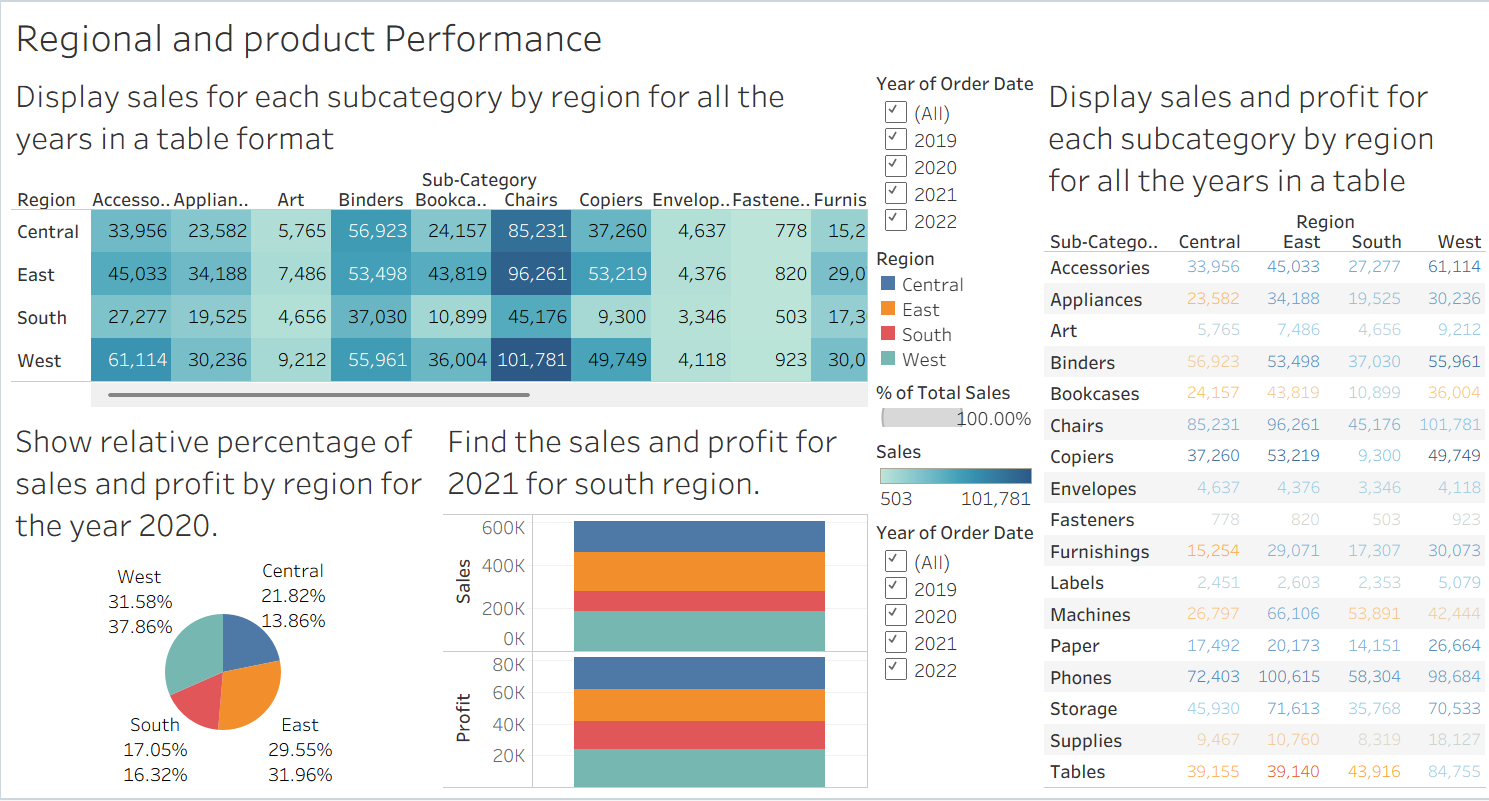

What the dashboard file says about the page in this screenshot:
{"tool":"tableau","page":{"name":"Regional and product Performance ","canvas":[1000,800],"ordinal":0},"visuals":[{"type":"worksheet","title":"Display sales for each subcategory by region for all the years in a table format","mark":"Automatic","rows":["Region"],"cols":["Sub-Category"],"box":[8,8,455,423]},{"type":"filter","title":"Show relative percentage of sales and profit by region for the year 2020.","param":"[federated.15bfd971dbl1vt1822pdc125c6v2].[yr:Order Date:ok]","box":[463,8,161,175]},{"type":"worksheet","title":"Display sales and profit for each subcategory by region for all the years in a table format","mark":"Automatic","rows":["Sub-Category"],"cols":["Region"],"box":[624,8,368,784]},{"type":"legend","title":"Show relative percentage of sales and profit by region for the year 2020.","param":"[federated.15bfd971dbl1vt1822pdc125c6v2].[none:Region:nk]","box":[463,183,161,134]},{"type":"legend","title":"Show relative percentage of sales and profit by region for the year 2020.","param":"[federated.15bfd971dbl1vt1822pdc125c6v2].[pcto:sum:Sales:qk]","box":[463,317,161,59]},{"type":"legend","title":"Display sales for each subcategory by region for all the years in a table format","param":"[federated.15bfd971dbl1vt1822pdc125c6v2].[sum:Sales:qk]","box":[463,376,161,81]},{"type":"worksheet","title":"Show relative percentage of sales and profit by region for the year 2020.","mark":"Pie","box":[8,431,455,361]},{"type":"filter","title":"Display sales and profit for each subcategory by region for all the years in a table format","param":"[federated.15bfd971dbl1vt1822pdc125c6v2].[yr:Order Date:ok]","box":[463,457,161,175]}]}

Visuals, with their boxes on the page's 1000x800 design canvas (x1, y1, x2, y2). These are canvas units, not pixel positions in the 1489x801 screenshot, which may show the page scaled, cropped or inside an application window:
"Display sales for each subcategory by region for all the years in a table format" worksheet: crop(8, 8, 463, 431)
"Show relative percentage of sales and profit by region for the year 2020." filter: crop(463, 8, 624, 183)
"Display sales and profit for each subcategory by region for all the years in a table format" worksheet: crop(624, 8, 992, 792)
"Show relative percentage of sales and profit by region for the year 2020." legend: crop(463, 183, 624, 317)
"Show relative percentage of sales and profit by region for the year 2020." legend: crop(463, 317, 624, 376)
"Display sales for each subcategory by region for all the years in a table format" legend: crop(463, 376, 624, 457)
"Show relative percentage of sales and profit by region for the year 2020." worksheet (Pie marks): crop(8, 431, 463, 792)
"Display sales and profit for each subcategory by region for all the years in a table format" filter: crop(463, 457, 624, 632)
